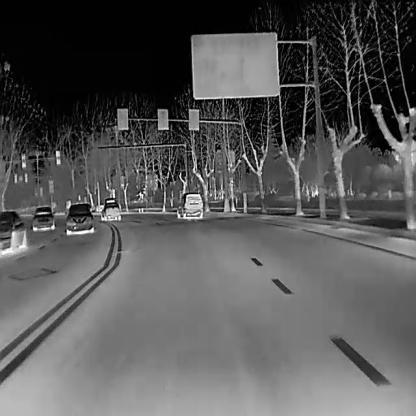car: (0, 209, 25, 251), (64, 202, 94, 234), (175, 191, 203, 217), (31, 206, 55, 230), (100, 197, 121, 220)
